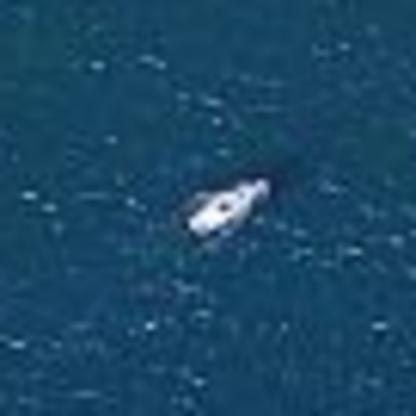ship: (176, 174, 277, 240)
